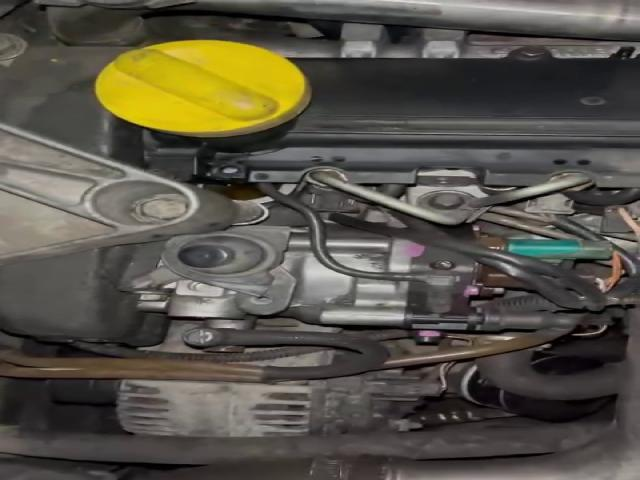alternator: (112, 371, 444, 437)
high_pressure_pump: (161, 229, 503, 347)
